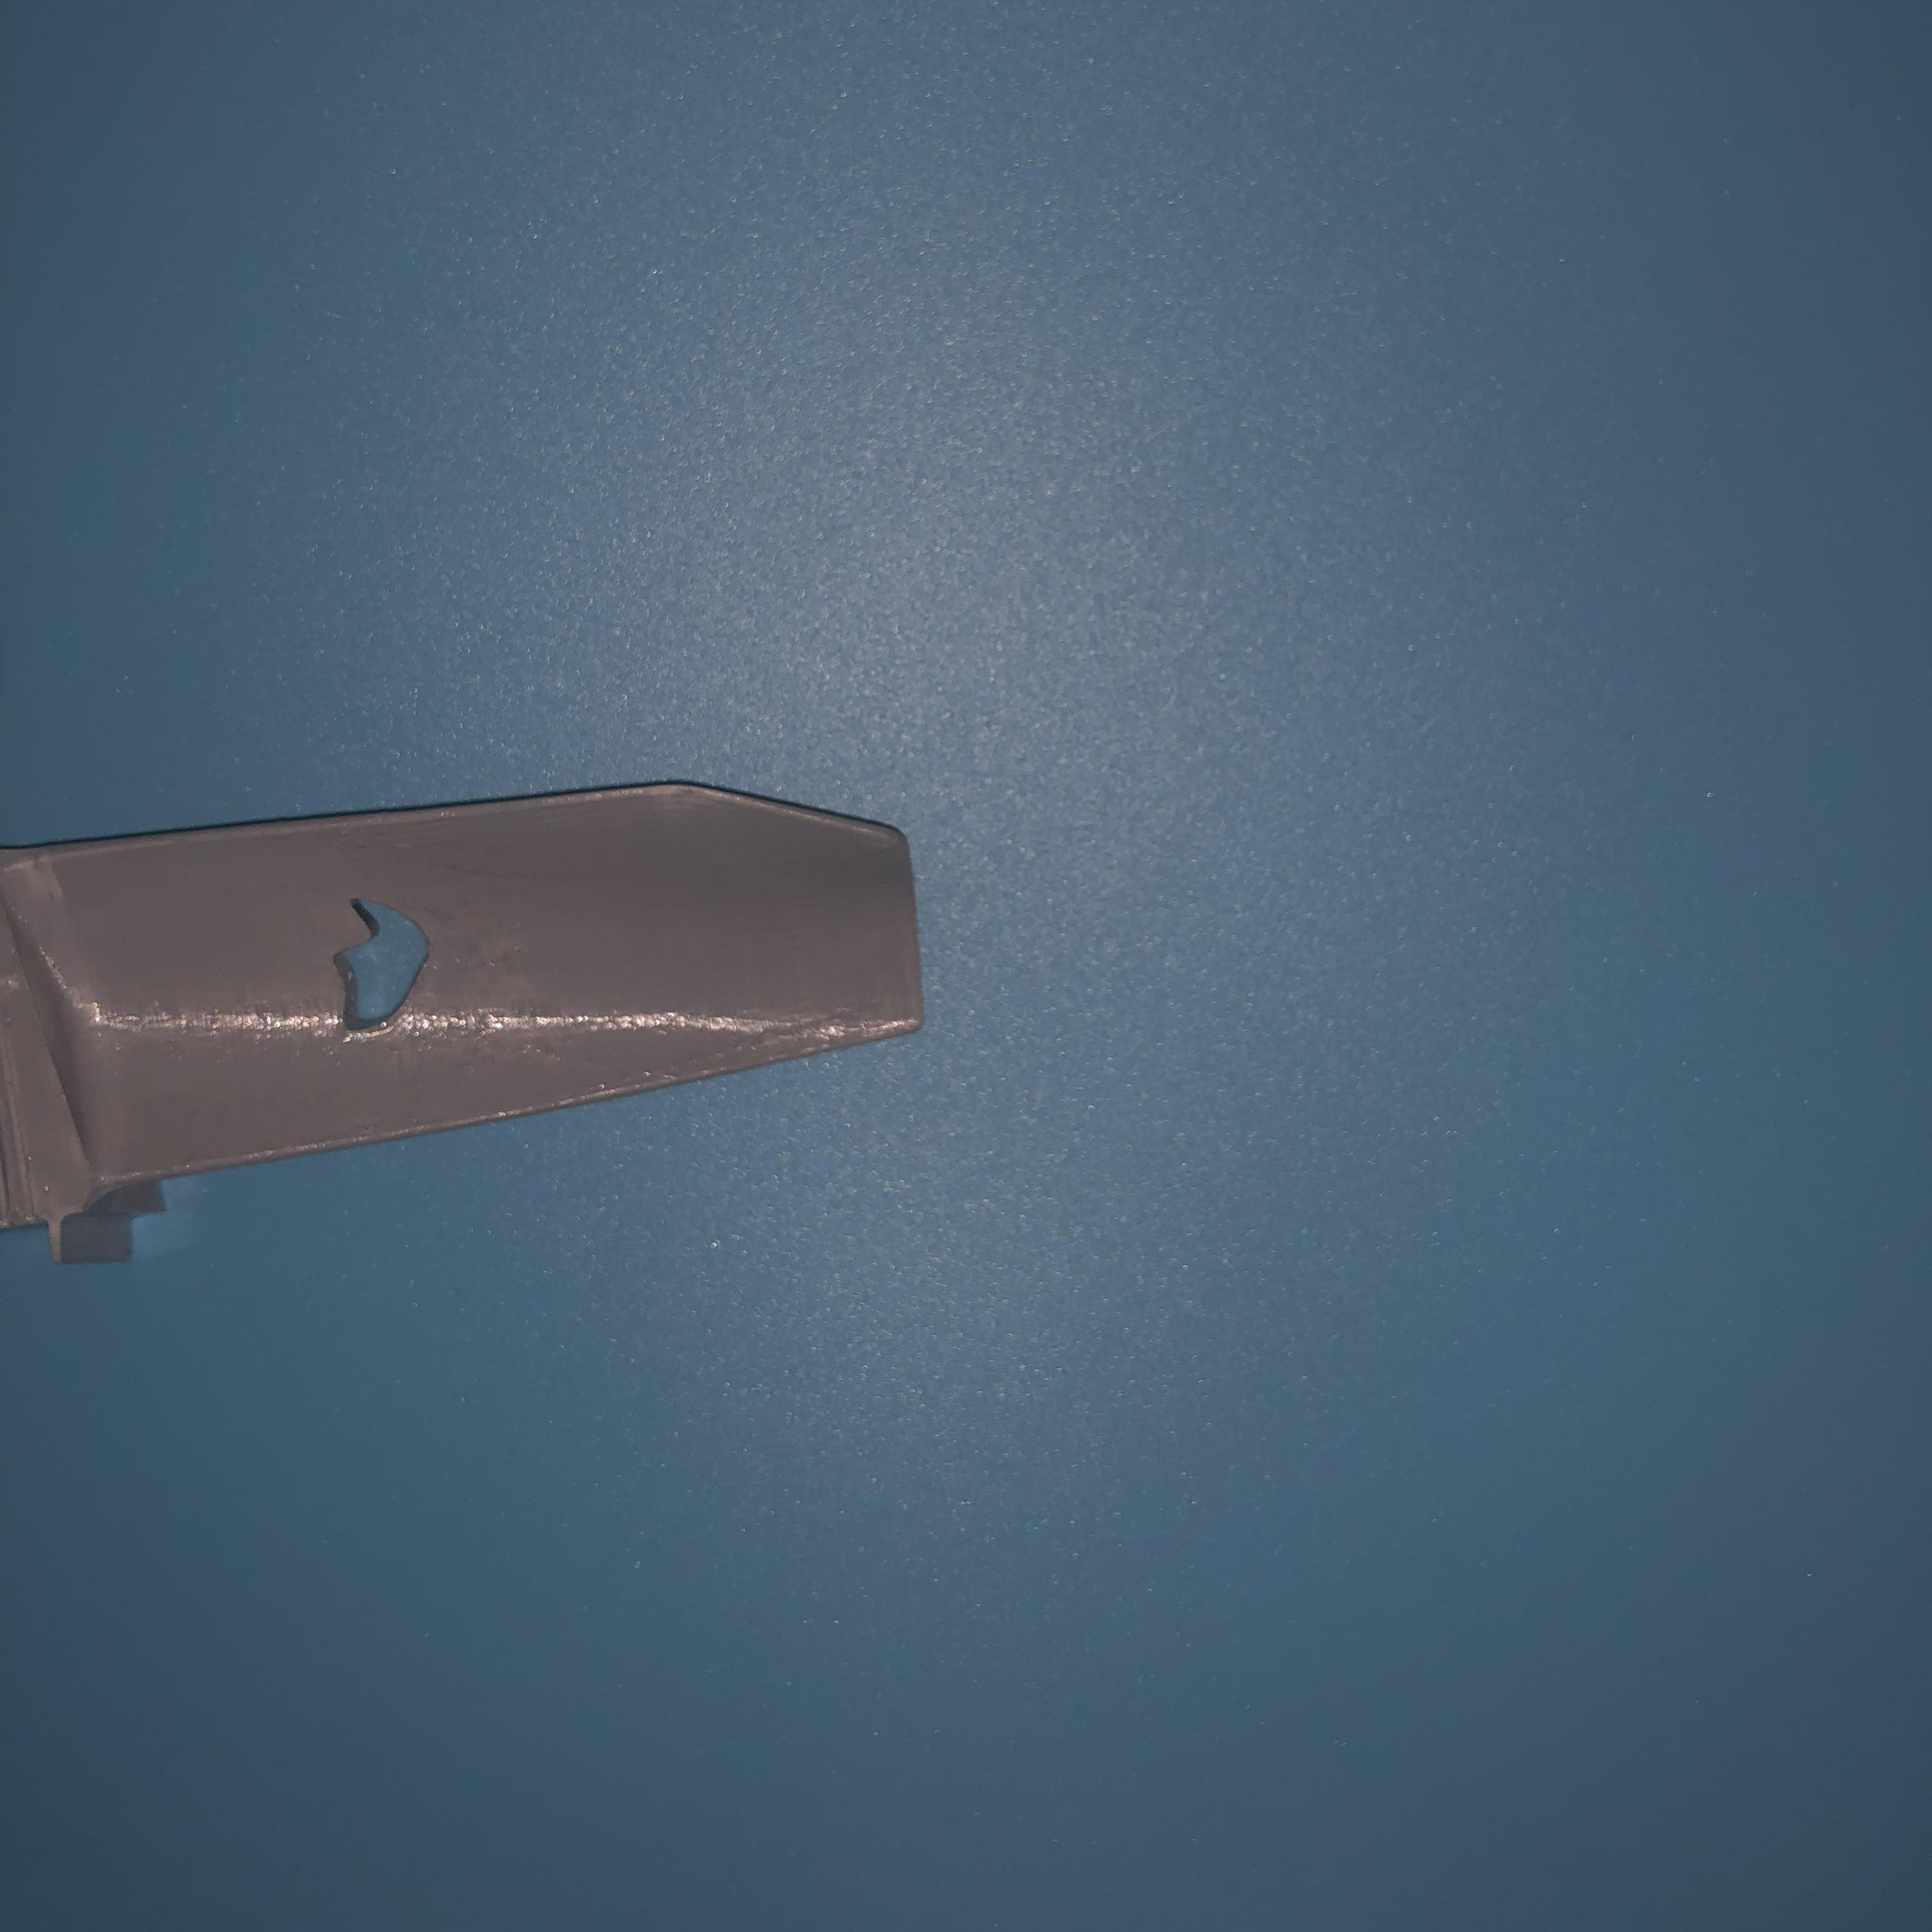breakdown: (340, 881, 439, 1044)
